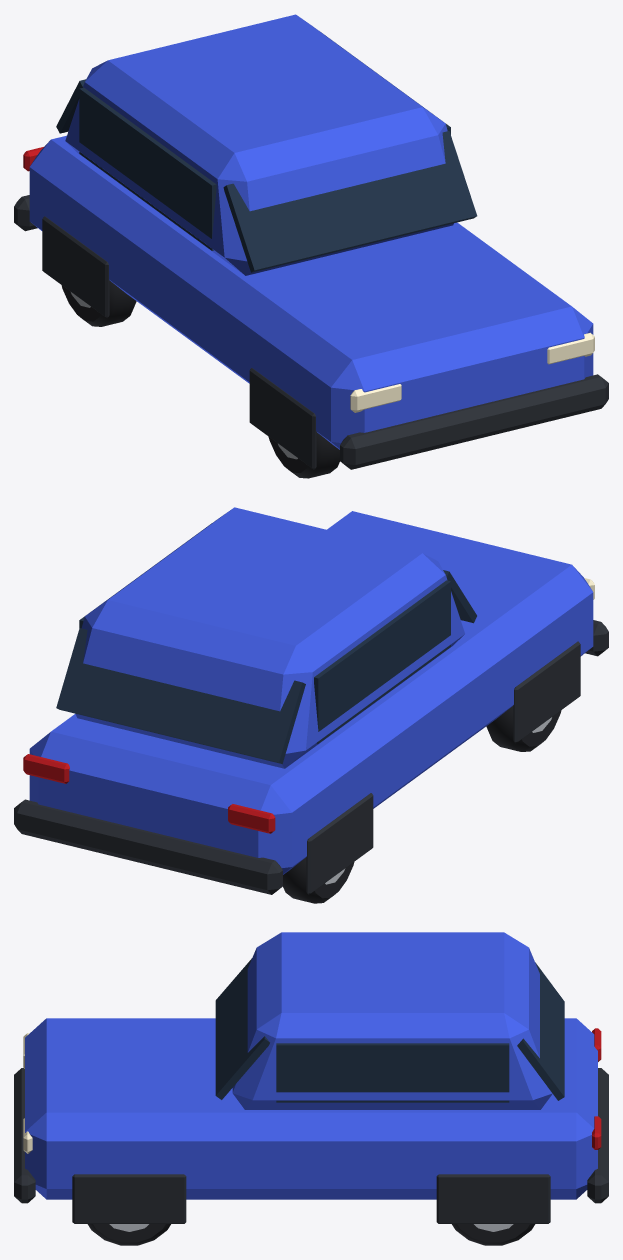
The model's file is car_hatch.glb.
3 renders of one model, top to bottom at view 1: azimuth 30°, elevation 25°; view 2: azimuth 150°, elevation 25°; view 3: azimuth 270°, elevation 25°, orthographic. The views are drawn at different scales.
Visible parts, largest first — view 1: body, wheel_RR, wheel_FR; view 2: body, wheel_FR, wheel_RR; view 3: body, wheel_FL, wheel_RL.
Part boxes in pixels (box(x1,y1,x2,y2)): body: box(14, 14, 608, 469); wheel_RR: box(61, 281, 136, 326); wheel_FR: box(268, 432, 339, 478); body: box(14, 507, 608, 894); wheel_FR: box(486, 706, 561, 751); wheel_RR: box(283, 857, 354, 903); body: box(14, 932, 608, 1223); wheel_FL: box(87, 1224, 170, 1245); wheel_RL: box(452, 1224, 535, 1245).
Bounding box in the file's own units: 1.76 × 1.58 × 3.84.
